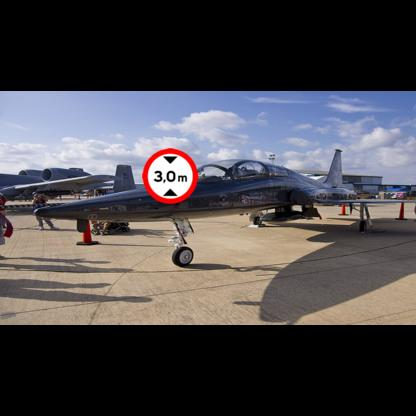R-15: (142, 148, 198, 204)
